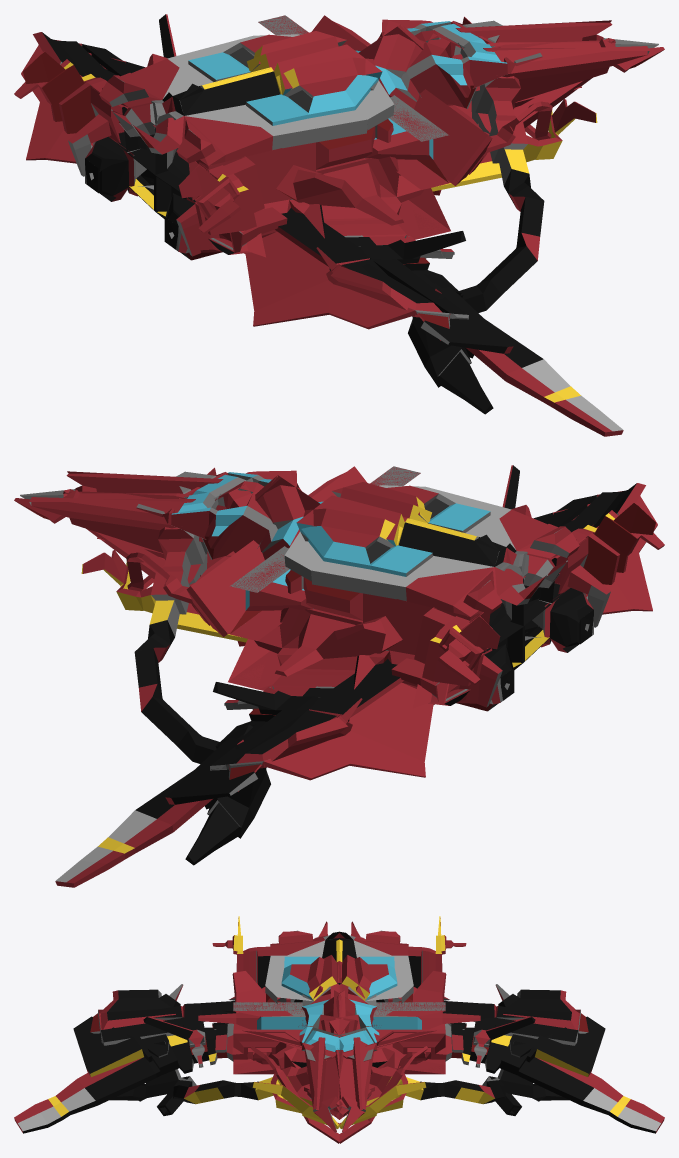
The model's file is freighter.glb.
3 renders of one model, top to bottom at view 1: azimuth 30°, elevation 25°; view 2: azimuth 150°, elevation 25°; view 3: azimuth 270°, elevation 25°, orthographic. The views are drawn at different scales.
Parts seen in each view (by area): view 1: Cube; view 2: Cube; view 3: Cube.
Part boxes in pixels (box(x1,y1,x2,y2)): Cube: box(14, 14, 664, 436); Cube: box(14, 465, 664, 887); Cube: box(14, 916, 664, 1143).
Size of the model in its own units: 6.08 by 2.37 by 9.42.
